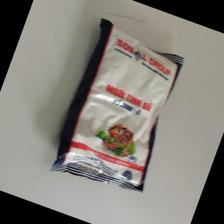Salt: (47, 16, 186, 197)
